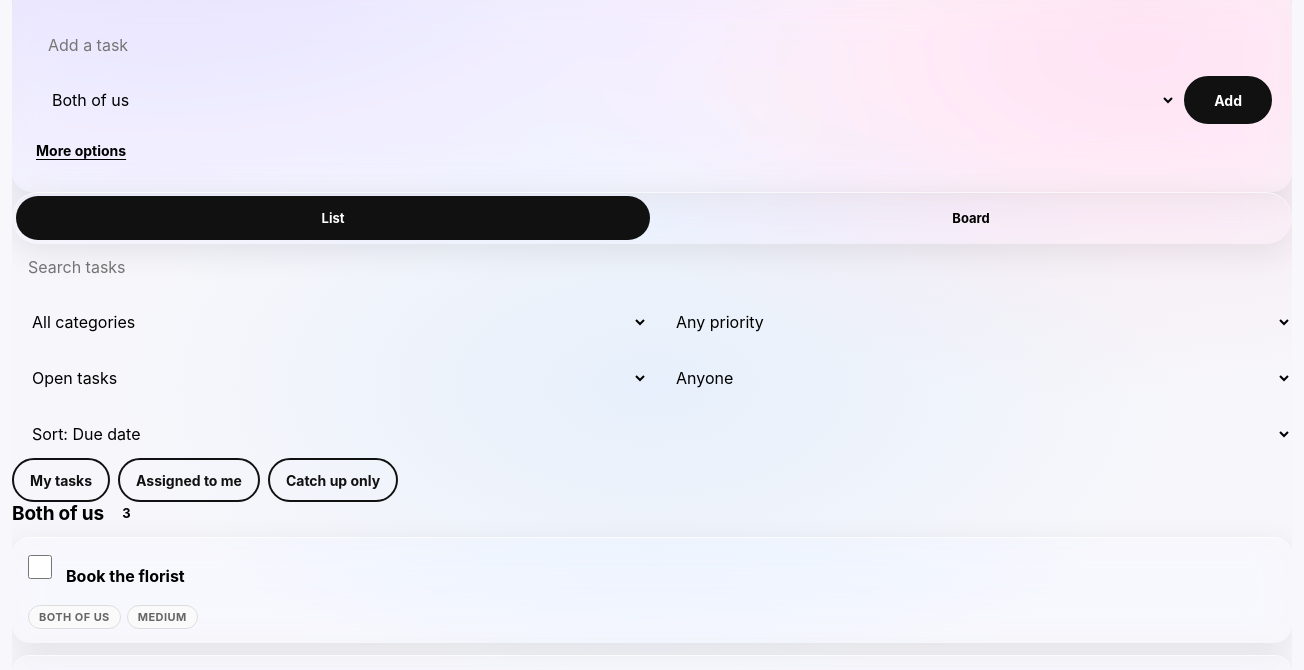
Scenario: chips and filters › "Assigned to me" shows only tasks assigned to the signed-in person
The width and height of the screenshot is (1304, 670).
Expected: the button "Book the florist" is shown, [66,551,1276,595]
What coordinates should you click on to do the following:
click the button "Assigned to me"
I would click on:
 (189, 480)
Its box is [118,458,260,502].
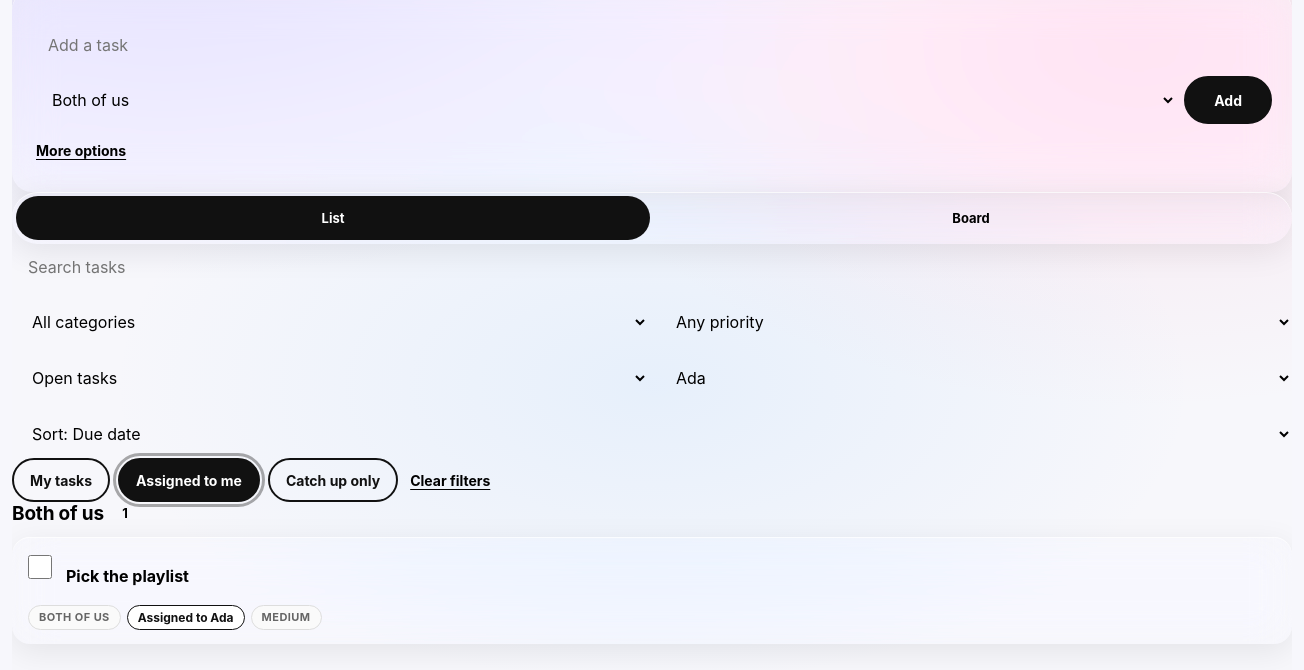
Expected: the button "Pick the playlist" is shown, [66,551,1276,595]
Result: the button "Book the florist" is gone
What coordinates should you click on to do the following:
click the button "Clear filters"
I would click on:
 (450, 480)
Its box is [406,458,494,502].
(page scrolled)
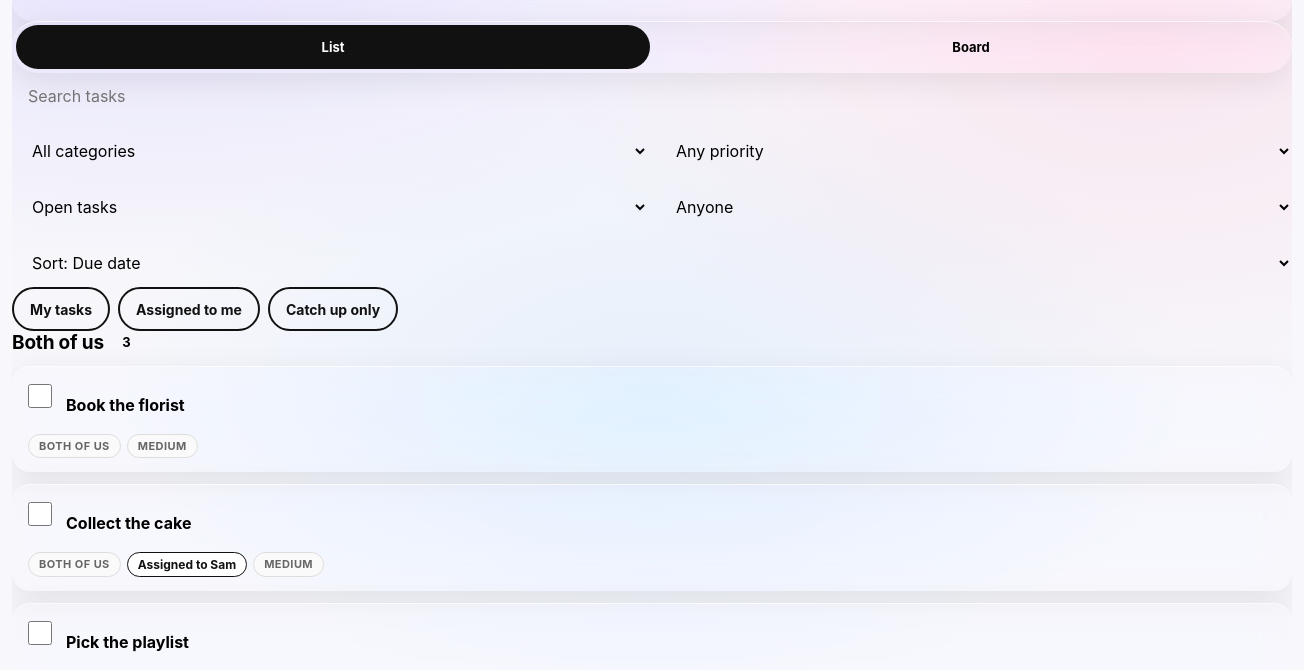
Result: the button "Collect the cake" is shown at [66,498,1276,542]
